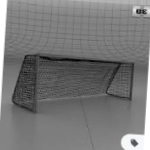goals: (11, 53, 136, 113)
